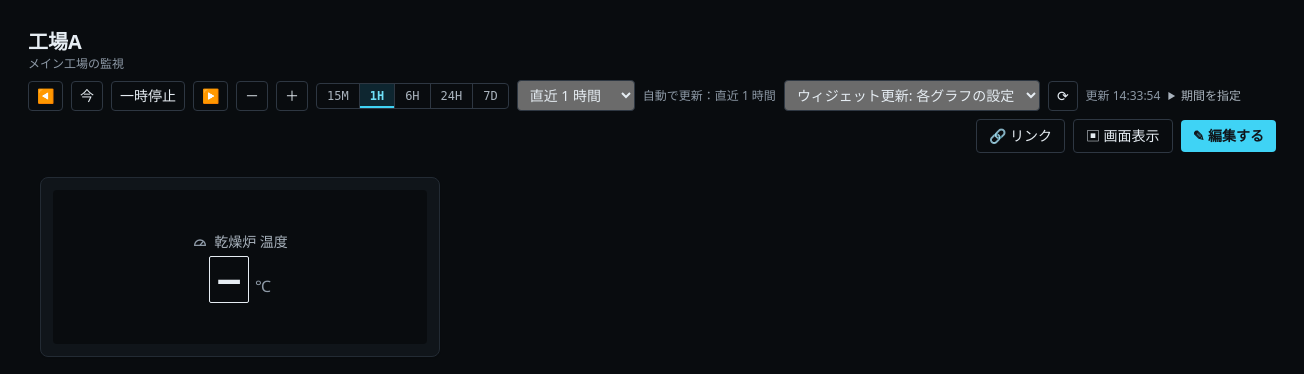
DashboardView › 「画面表示」で操作類を隠し、「終える」で元に戻る
Click the button "▣ 画面表示" at [1123, 136], box left=1073, top=119, right=1173, bottom=153
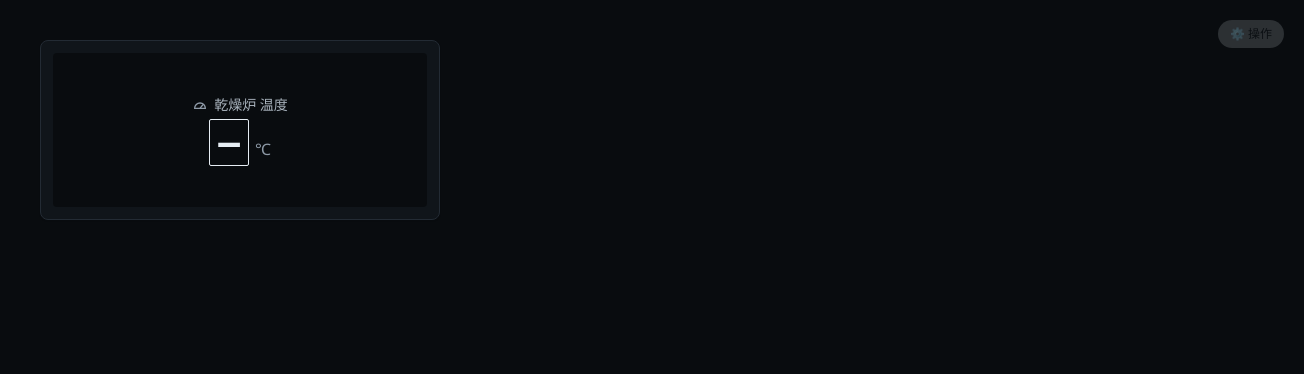
Check: the button "編集する" is gone
Click the button named "操作バーを出す" at [652, 22], box left=12, top=12, right=1292, bottom=32
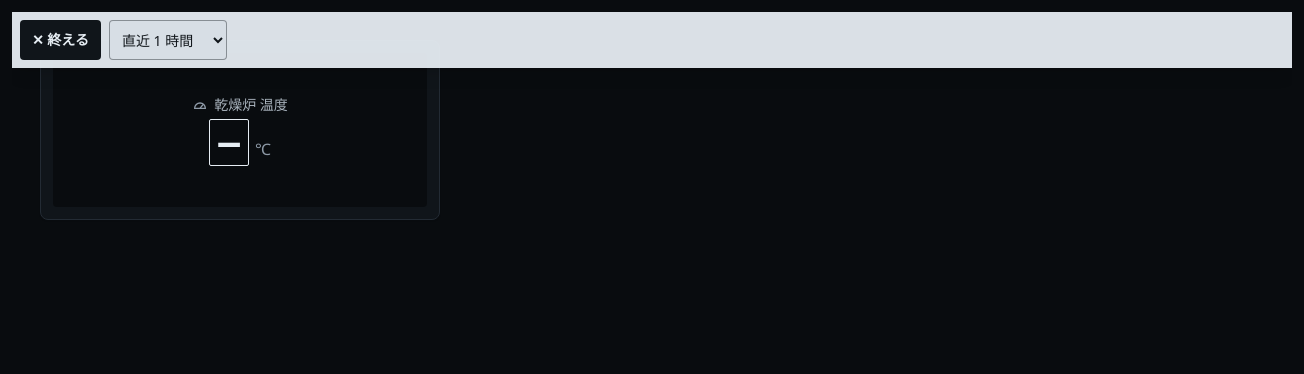
Click the button with aria-label "画面表示を終える" at [60, 40], box left=20, top=20, right=101, bottom=60
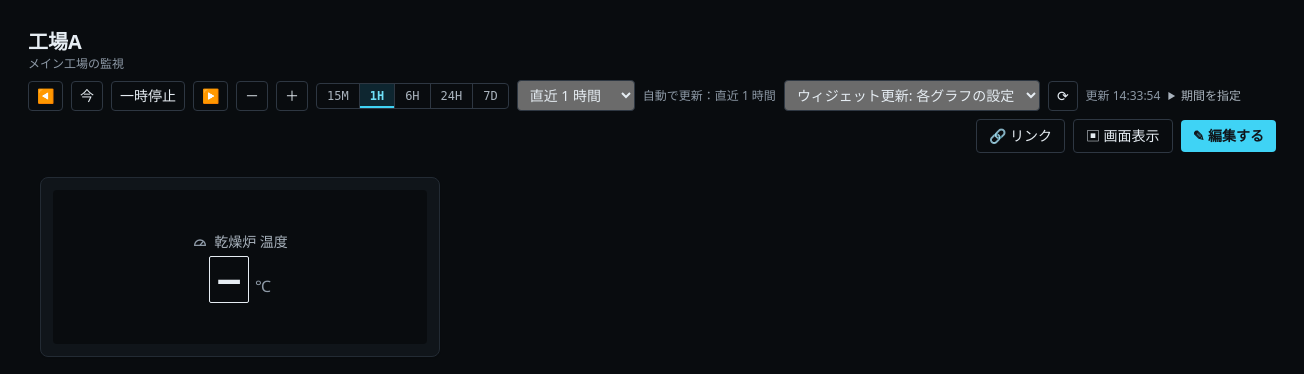
Check: the button "✎ 編集する" is shown, box left=1181, top=120, right=1276, bottom=152
